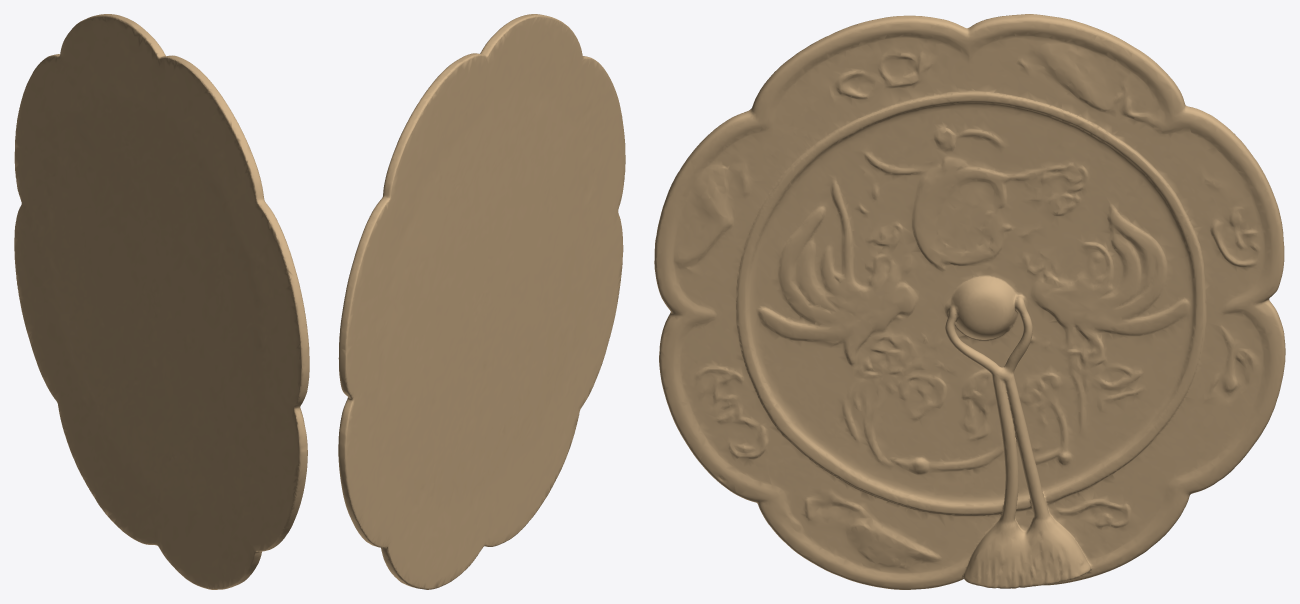
File: mirror-flat.glb
3 views of the same model, side by side, from view 1: azimuth 30°, elevation 25°; view 2: azimuth 150°, elevation 25°; view 3: azimuth 270°, elevation 25° (orthographic). The views are drawn at different scales.
Visible parts, largest first — view 1: tripo_node_2b17d926-7bb3-4138-8f7d-5e6b00a0a0be; view 2: tripo_node_2b17d926-7bb3-4138-8f7d-5e6b00a0a0be; view 3: tripo_node_2b17d926-7bb3-4138-8f7d-5e6b00a0a0be.
Part boxes in pixels (box(x1,y1,x2,y2)): tripo_node_2b17d926-7bb3-4138-8f7d-5e6b00a0a0be: box(14, 14, 309, 589); tripo_node_2b17d926-7bb3-4138-8f7d-5e6b00a0a0be: box(338, 14, 625, 589); tripo_node_2b17d926-7bb3-4138-8f7d-5e6b00a0a0be: box(654, 14, 1285, 589).
Size of the model in its own units: 0.0573 by 0.9993 by 1.
